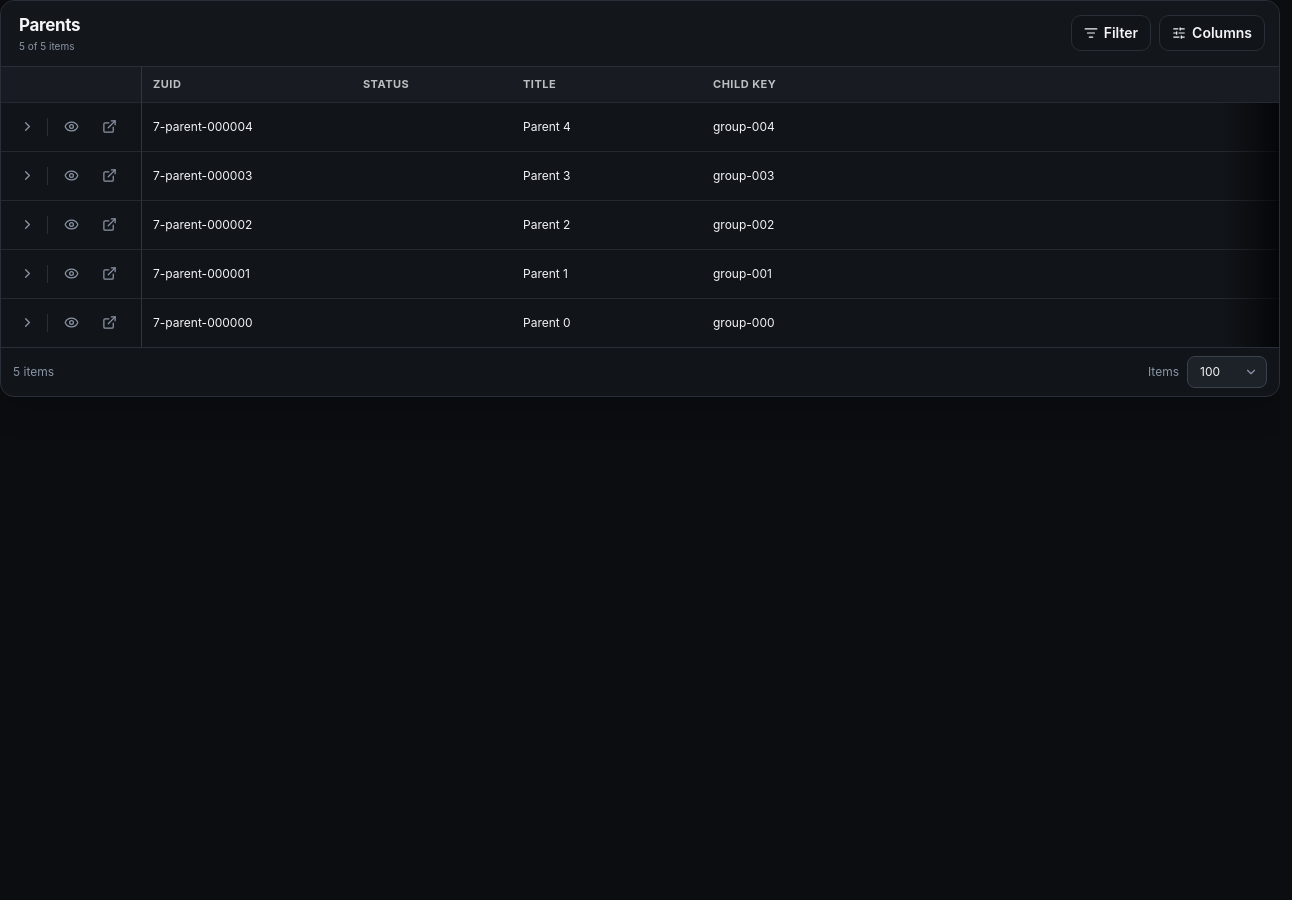
recursive collection tables › keeps a nested load failure local and reveals its technical details
The width and height of the screenshot is (1292, 900).
Click the button named "Expand relationships for 7-parent-000000" at {"x": 27, "y": 323}, box [11, 307, 43, 339]
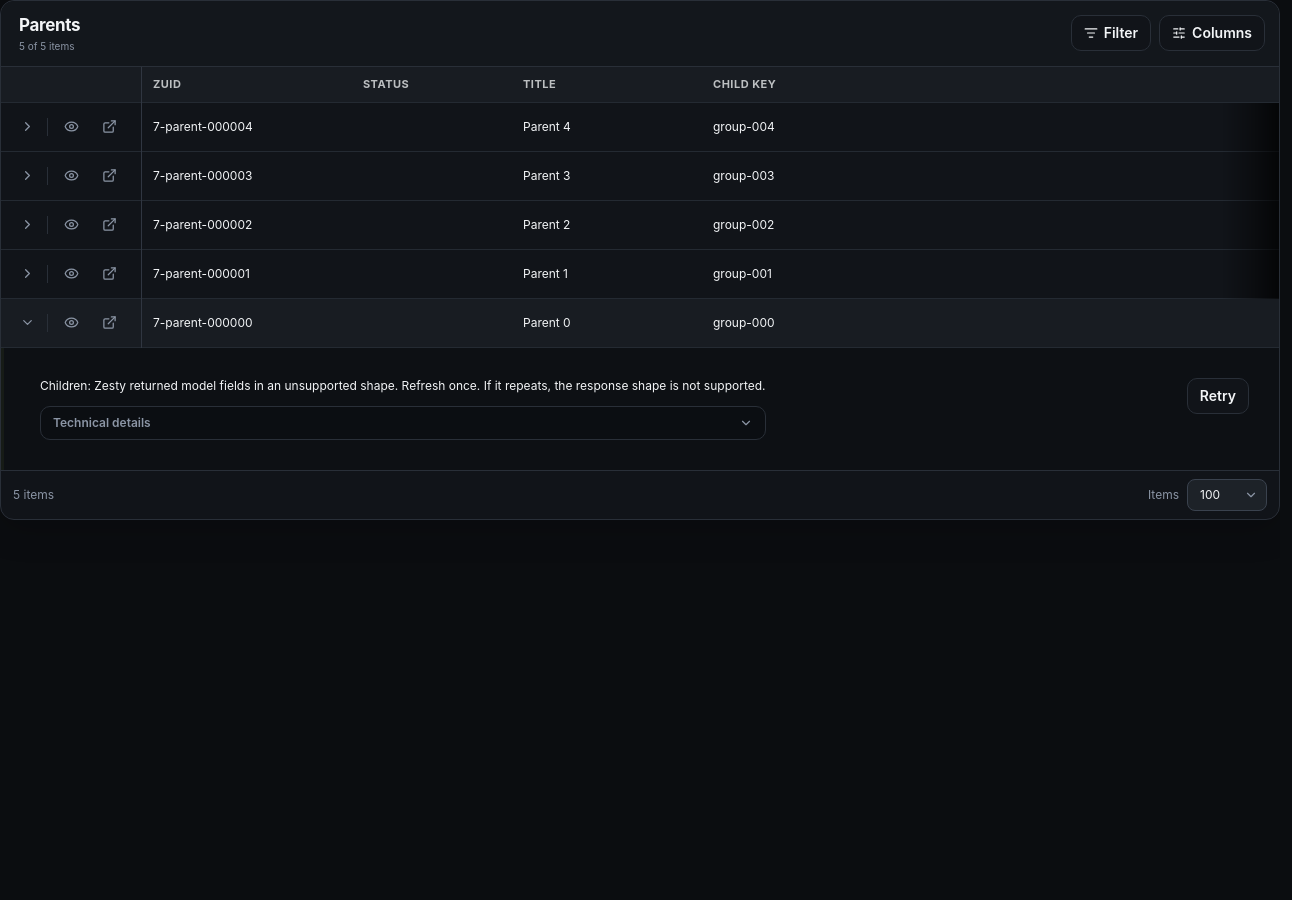
Expected: the text "Loading collection schema" is not shown
Now the text "Children: Zesty returned model fields" is shown, box [40, 378, 766, 393]
Click the button "Technical details" at {"x": 102, "y": 422}, box [41, 407, 764, 439]
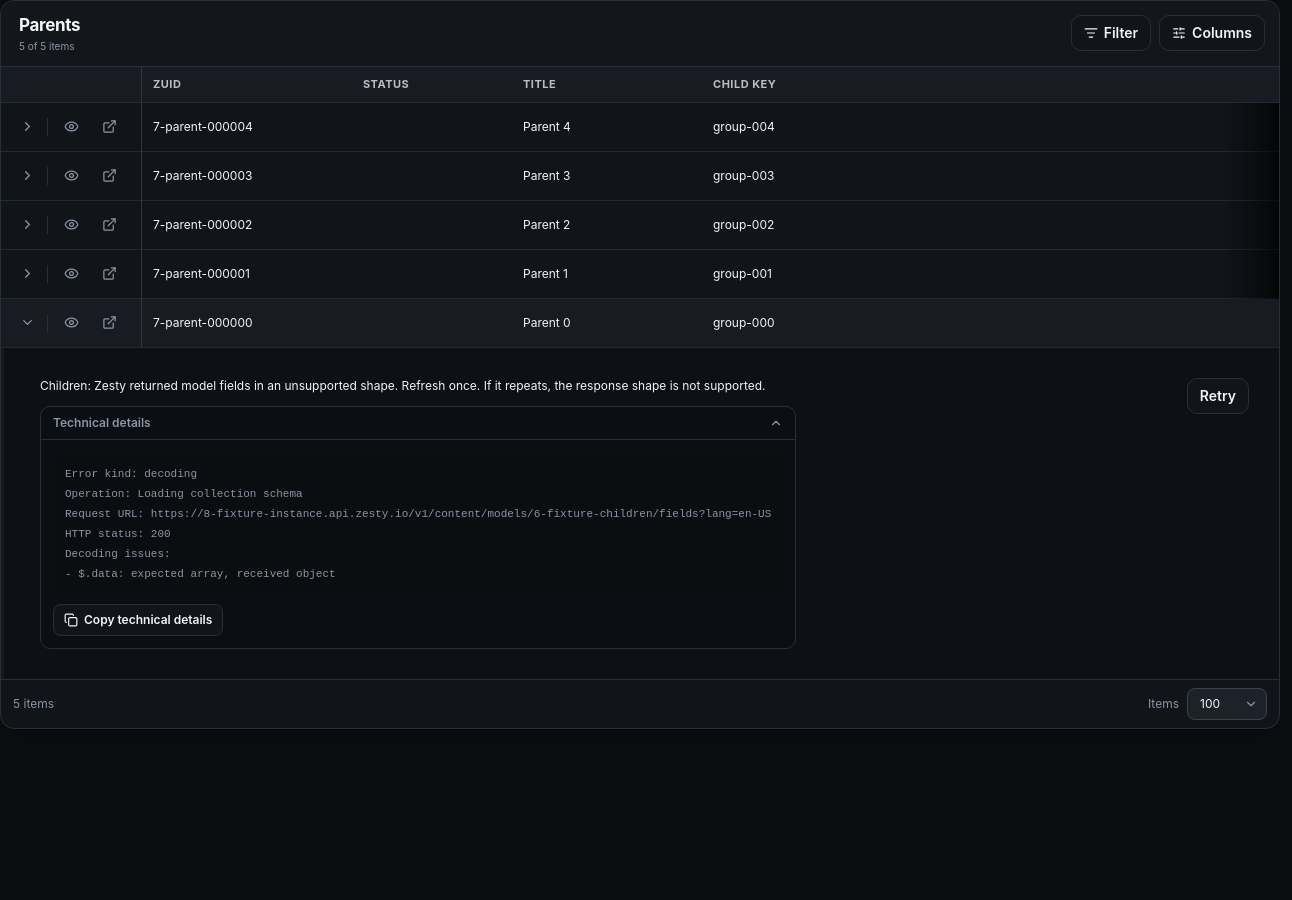
Now the text named "Technical error details" shows "Loading collection schema", box [65, 468, 771, 580]
Now the text named "Technical error details" shows "$.data", box [65, 468, 771, 580]
